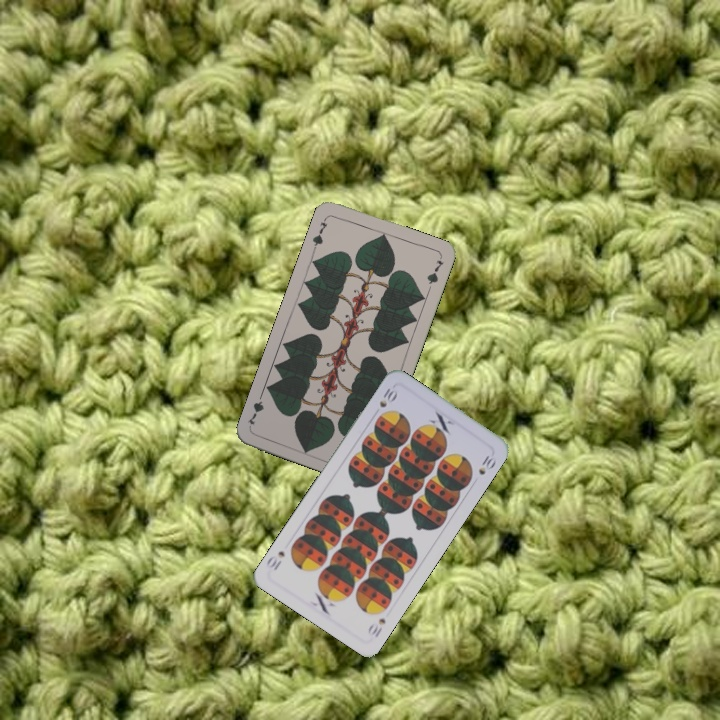G7: (308, 213, 331, 252)
S10: (375, 384, 400, 410), (364, 614, 388, 640)
